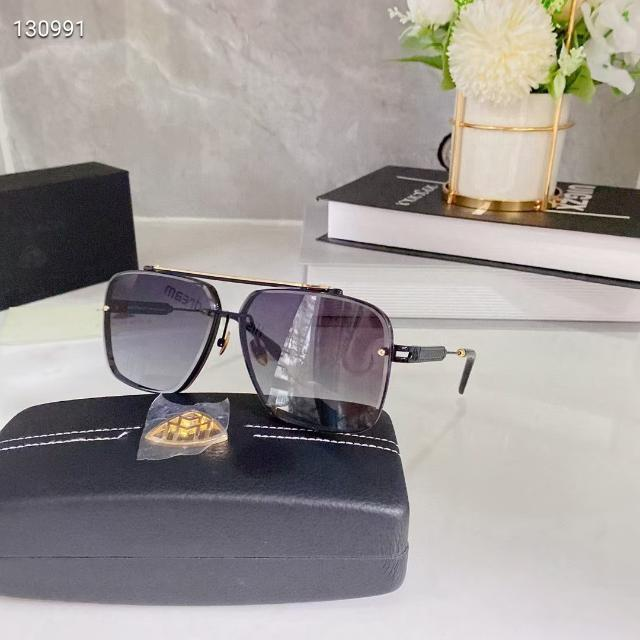glasses: (88, 256, 500, 442)
